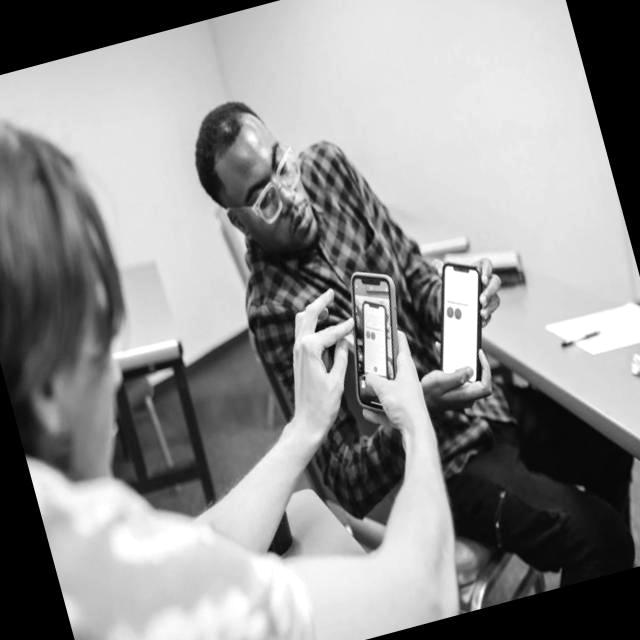phone: (324, 261, 426, 419), (414, 254, 508, 391)
